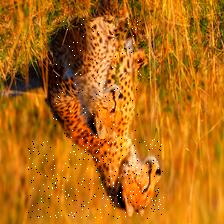Cheetha: (54, 18, 144, 146), (28, 139, 164, 219)
